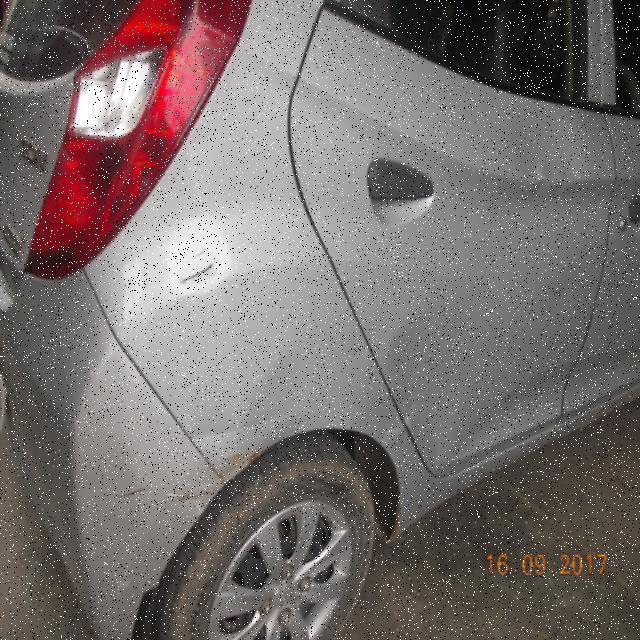doorouter-dent: (310, 63, 591, 459)
quaterpanel-dent: (124, 137, 323, 520)
rear-bumper-dent: (0, 391, 219, 638)
